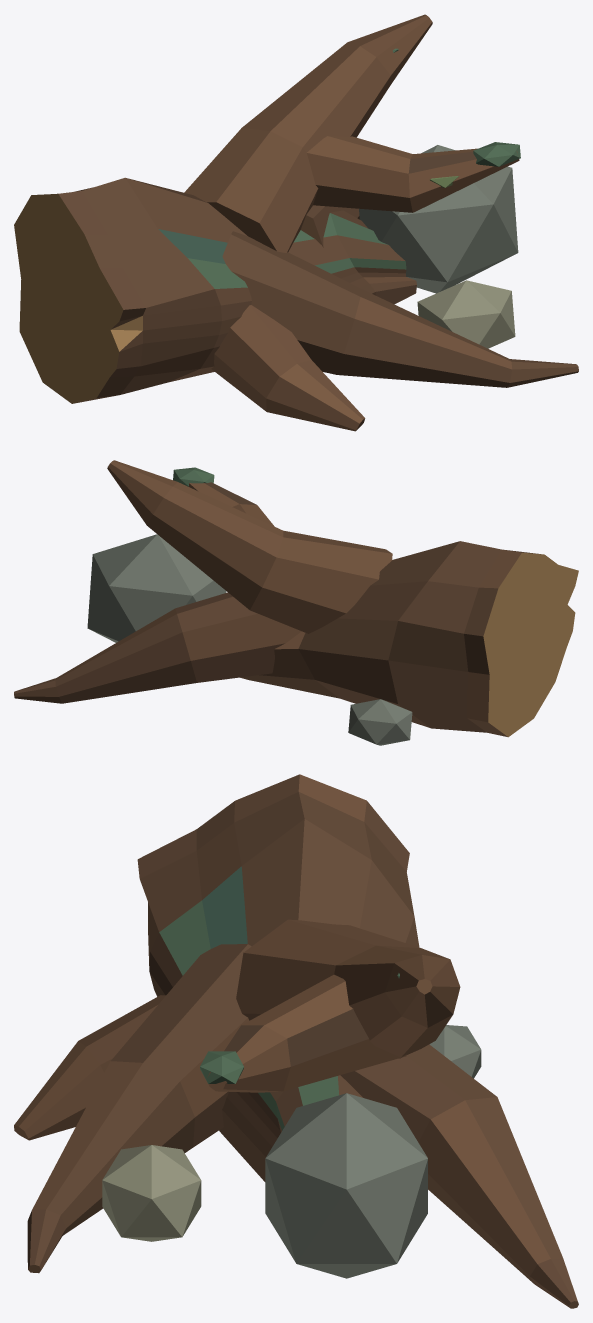
The model's file is rootfall-right.glb.
The picture shows the model from 3 angles, top to bottom: view 1: azimuth 30°, elevation 25°; view 2: azimuth 150°, elevation 25°; view 3: azimuth 270°, elevation 25°; orthographic projection. The views are drawn at different scales.
Visible parts, largest first — view 1: rootfall-right; view 2: rootfall-right; view 3: rootfall-right.
Boxes of the visible parts, x1,y1,x2,y2 form: rootfall-right: (14, 14, 578, 431); rootfall-right: (14, 460, 578, 745); rootfall-right: (14, 774, 578, 1308).
Size of the model in its own units: 5.22 by 2.65 by 4.35.
Materials: 1 (1 with a texture image).
